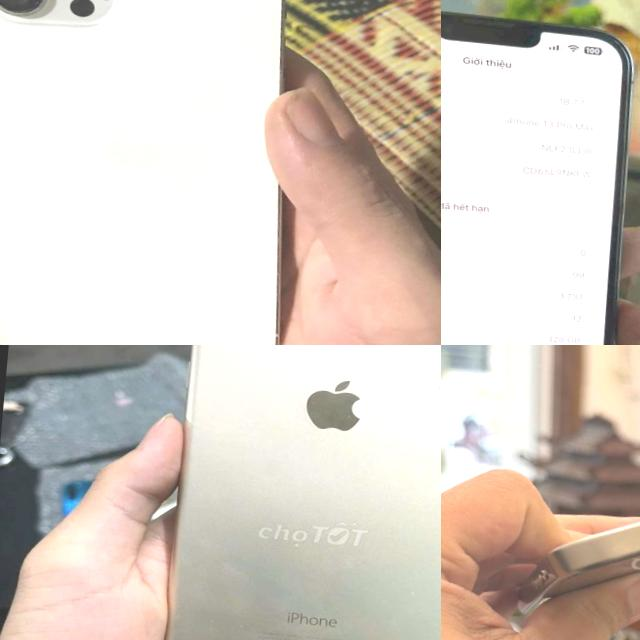gen_12_13: (0, 0, 342, 345), (441, 0, 640, 345)
gen_15: (491, 413, 640, 640)
gen_6: (154, 345, 441, 640)
